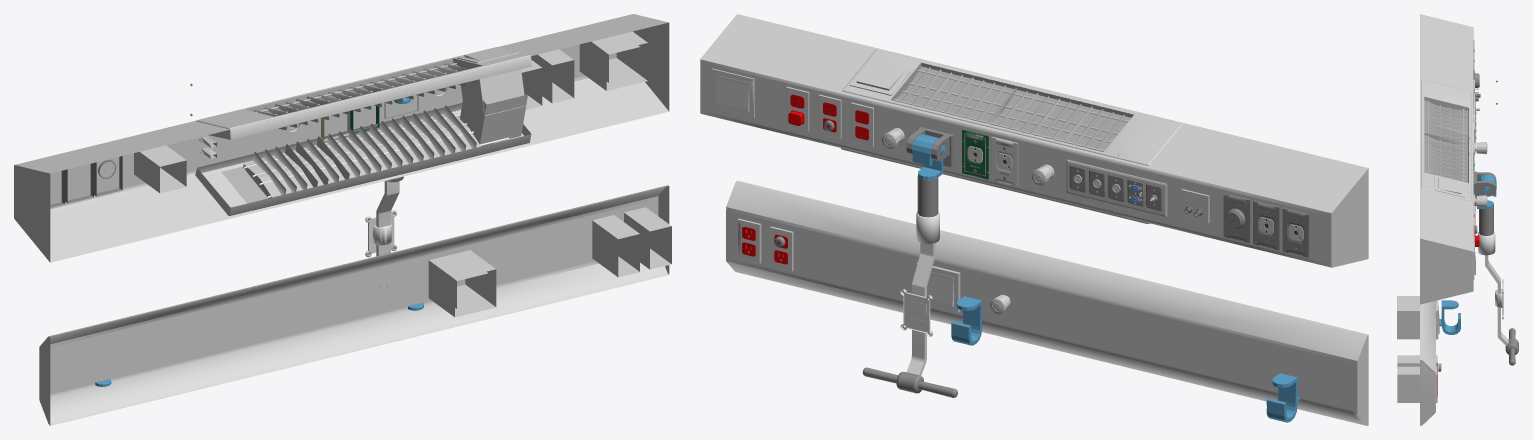
File: wallUnit.fbx
3 renders of one model, left to right at view 1: azimuth 30°, elevation 25°; view 2: azimuth 150°, elevation 25°; view 3: azimuth 270°, elevation 25°, orthographic. The views are drawn at different scales.
Parts seen in each view (by area): view 1: wallUnit; view 2: wallUnit; view 3: wallUnit.
Part boxes in pixels (left/top/right/bottom): wallUnit: left=14, top=14, right=671, bottom=425; wallUnit: left=700, top=14, right=1368, bottom=425; wallUnit: left=1397, top=14, right=1518, bottom=425.
Size of the model in its own units: 180 by 75.44 by 41.2.
